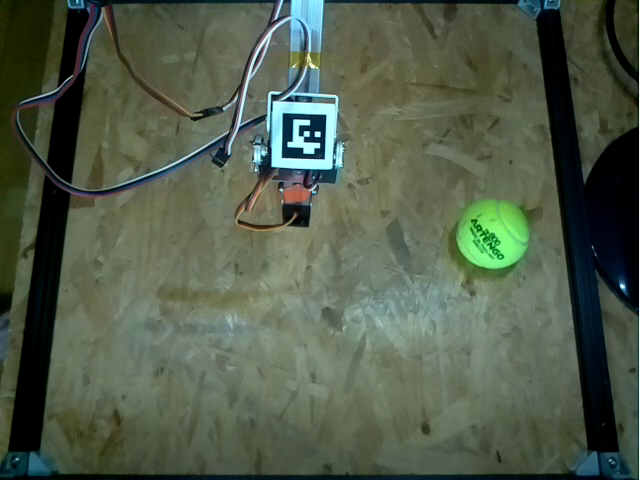tennis_ball: (457, 198, 530, 268)
